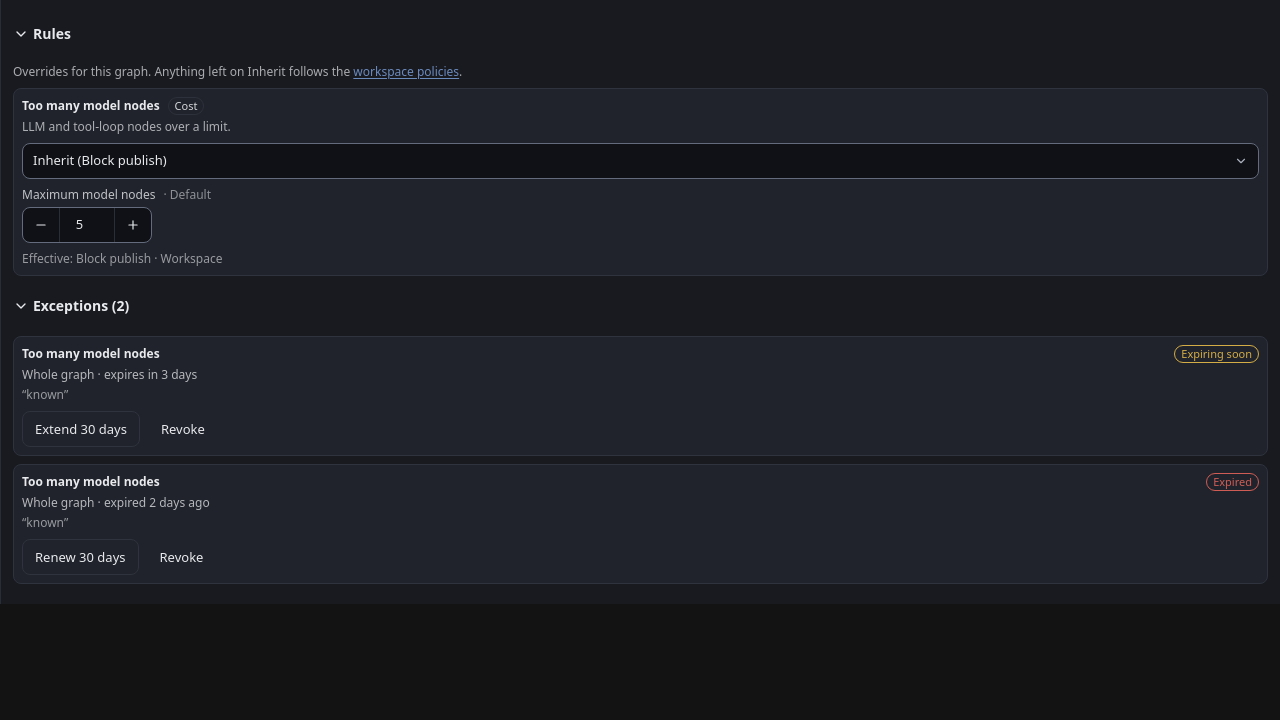
Scenario: PolicyPanel › shows inherited enforcement and saves an override, then re-validates
Expected: the text "Effective: Block publish · Workspace" is shown, top-left (22, 250), bottom-right (222, 267)
Click the dropdown named "Too many model nodes enforcement" at [100, 160], box top-left (22, 143), bottom-right (1259, 179)
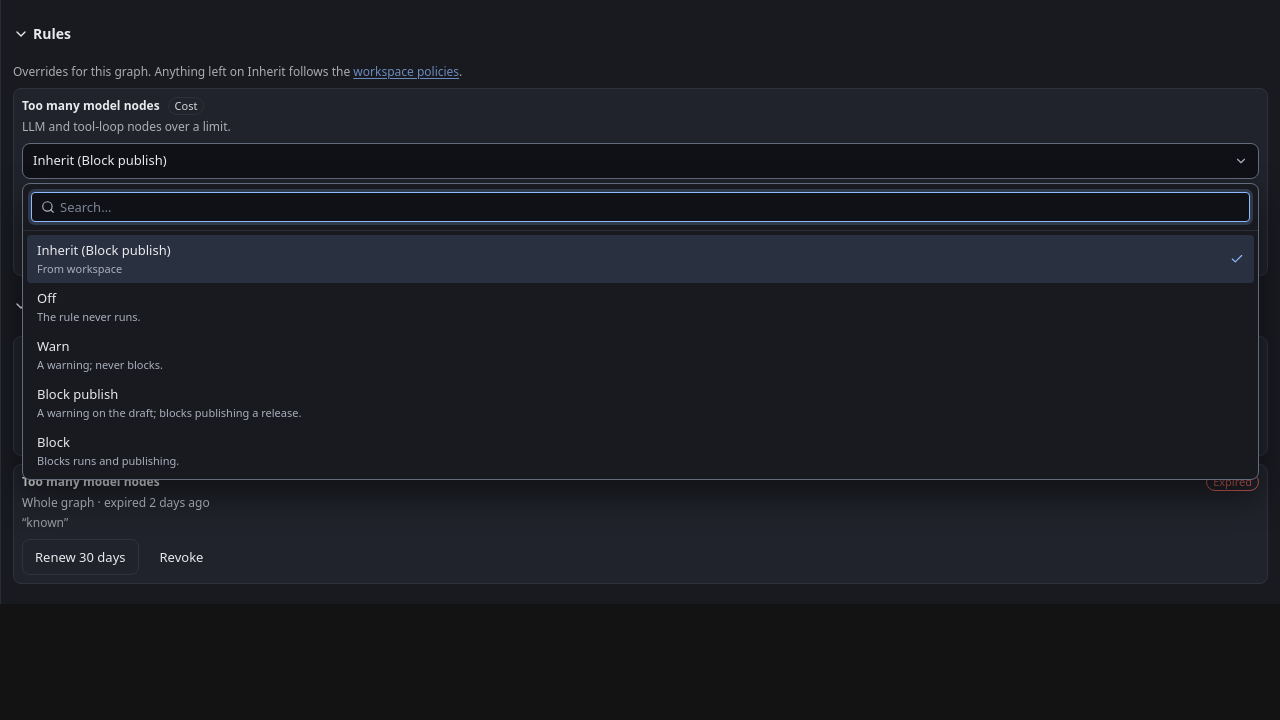
Press the mouse on the option "Off The rule never runs." at [89, 306], box top-left (37, 289), bottom-right (141, 324)
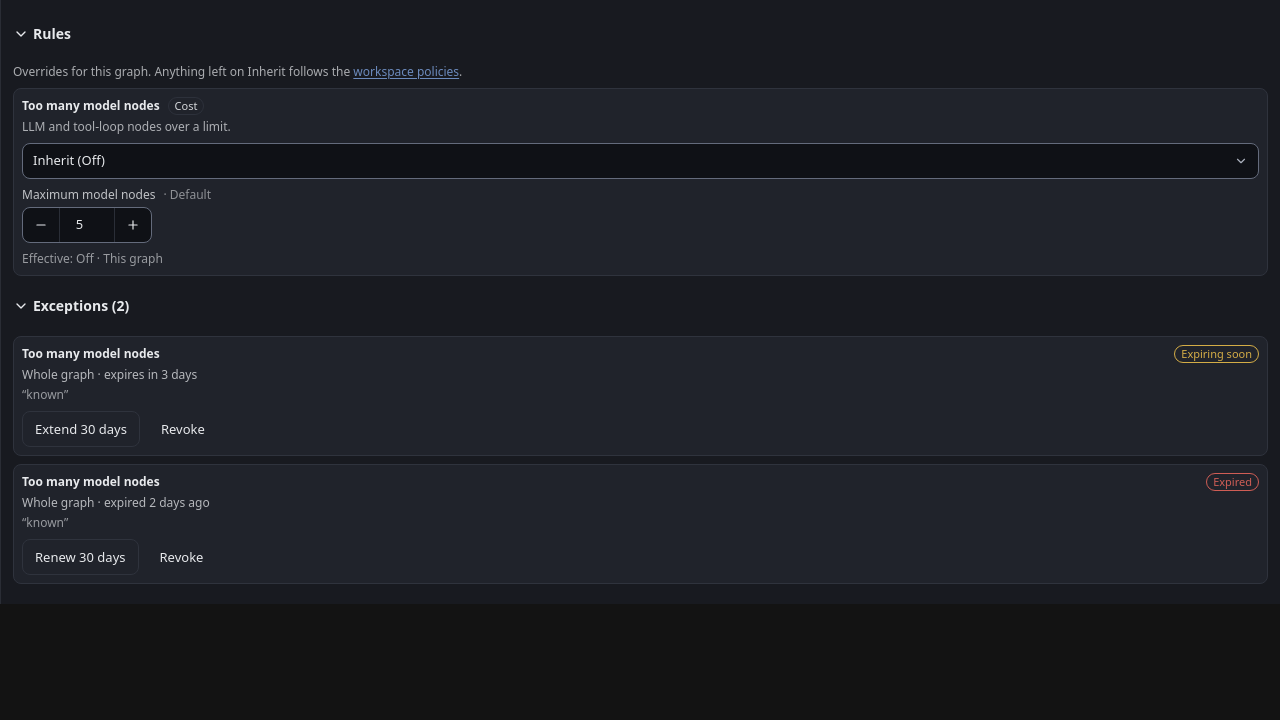
Result: the text "Effective: Off · This graph" is shown at top-left (22, 250), bottom-right (163, 267)
